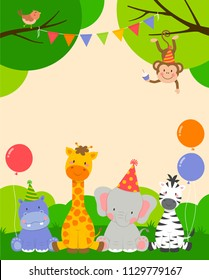animal: (60, 144, 97, 252), (154, 176, 191, 251), (144, 38, 184, 94), (13, 194, 50, 250)
elephant: (97, 187, 152, 248)
